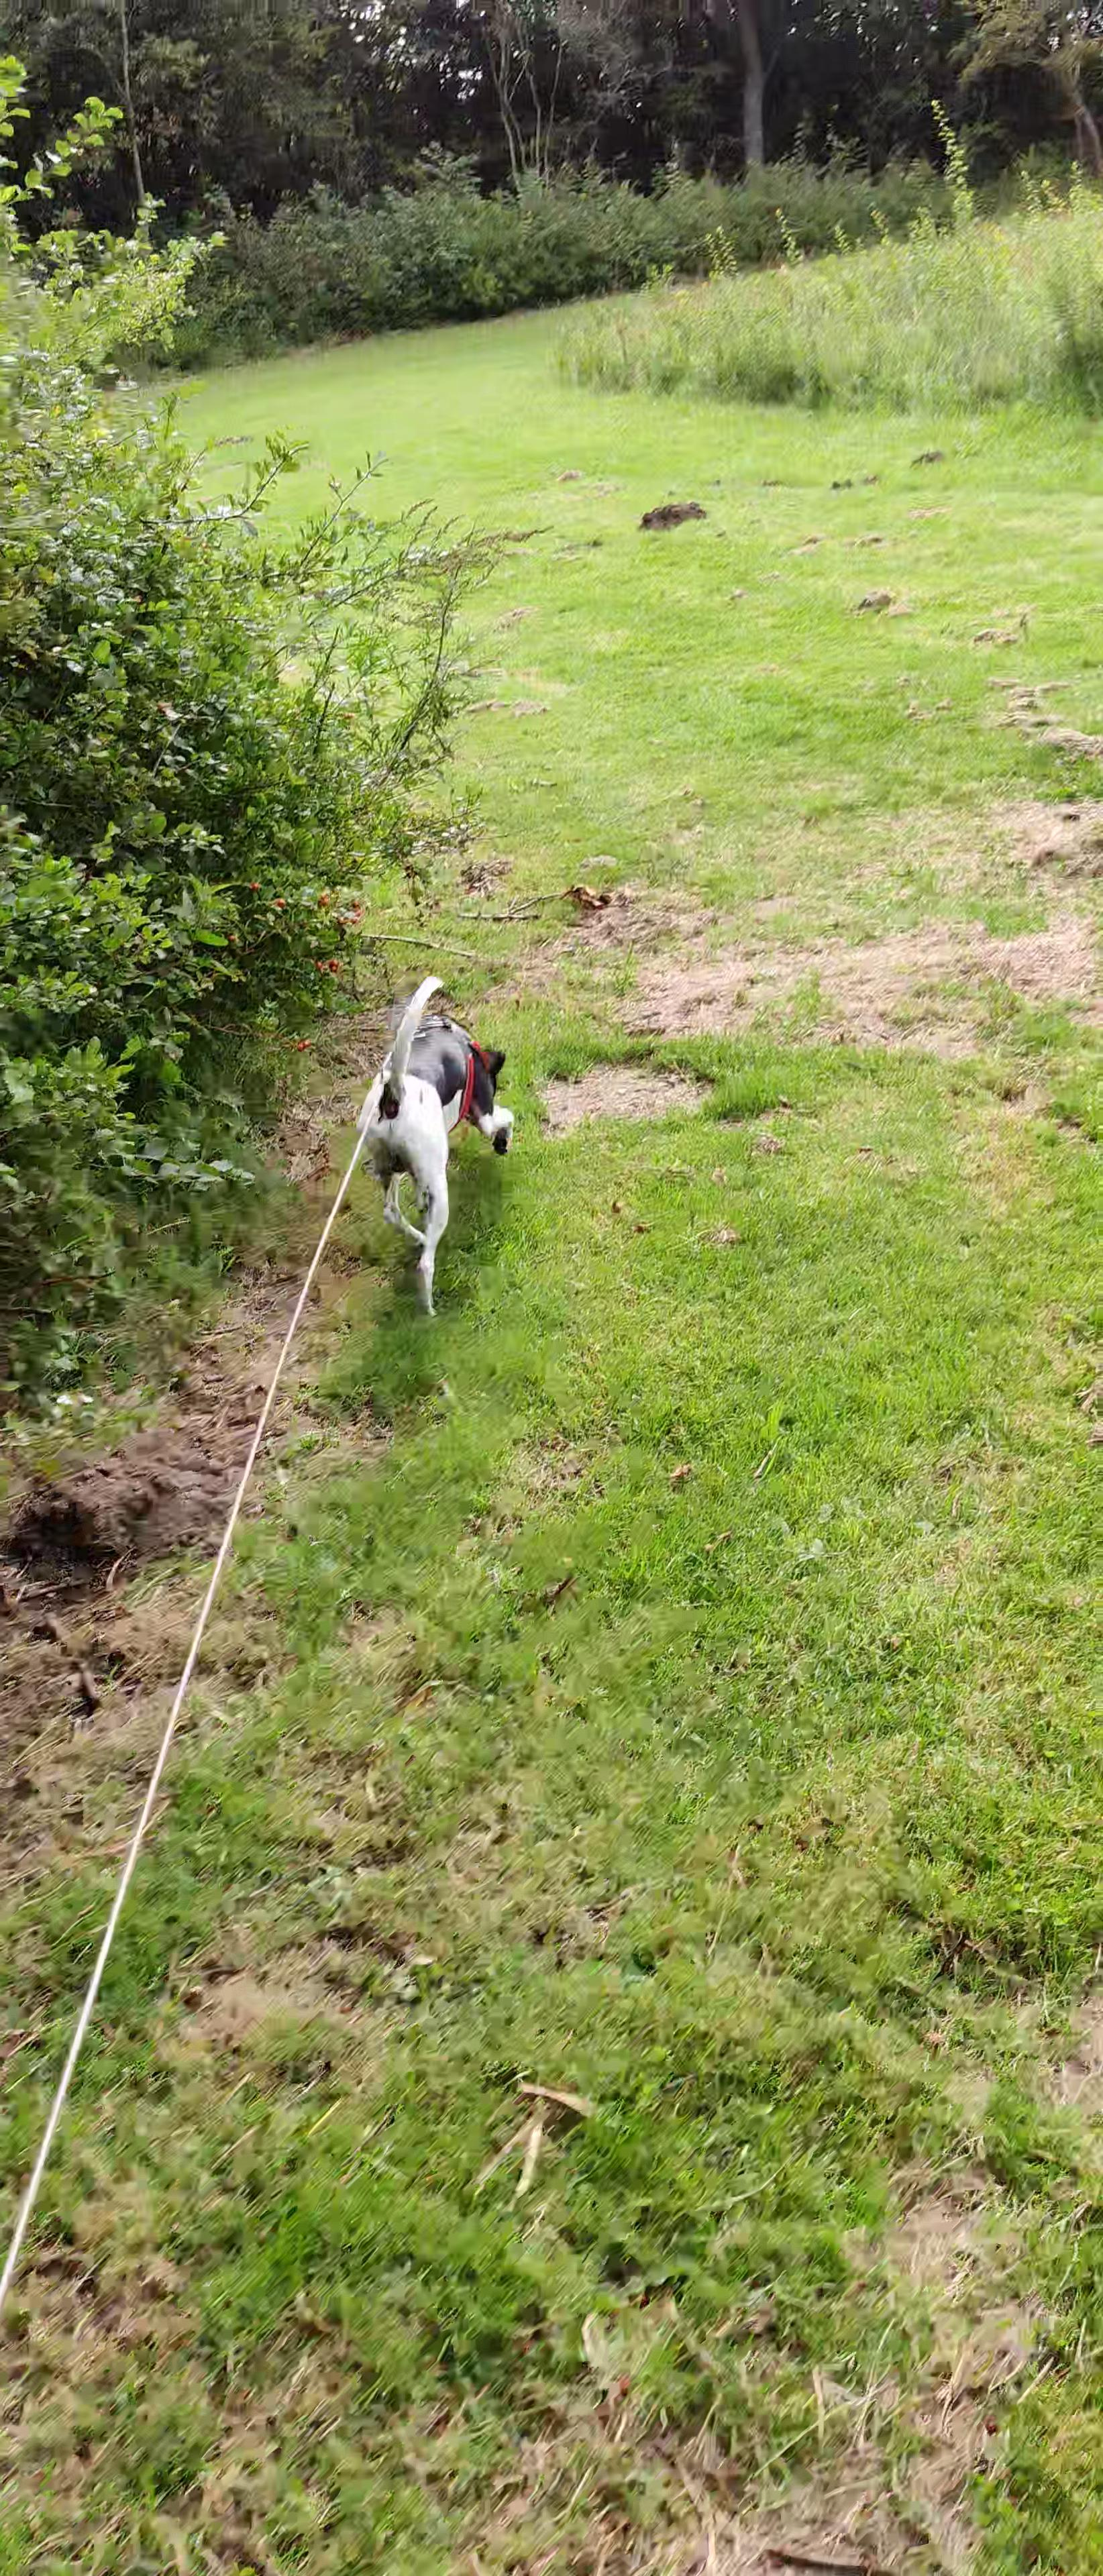Dog: (345, 956, 518, 1327)
